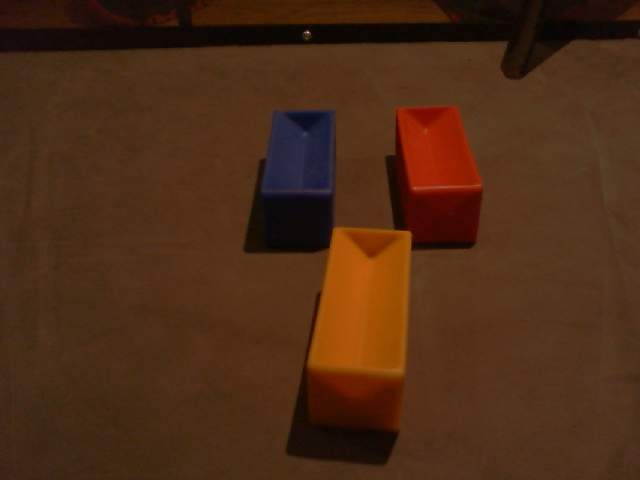BlueSample: (260, 109, 336, 241)
RedSample: (392, 103, 486, 248)
YellowSample: (297, 222, 415, 436)
